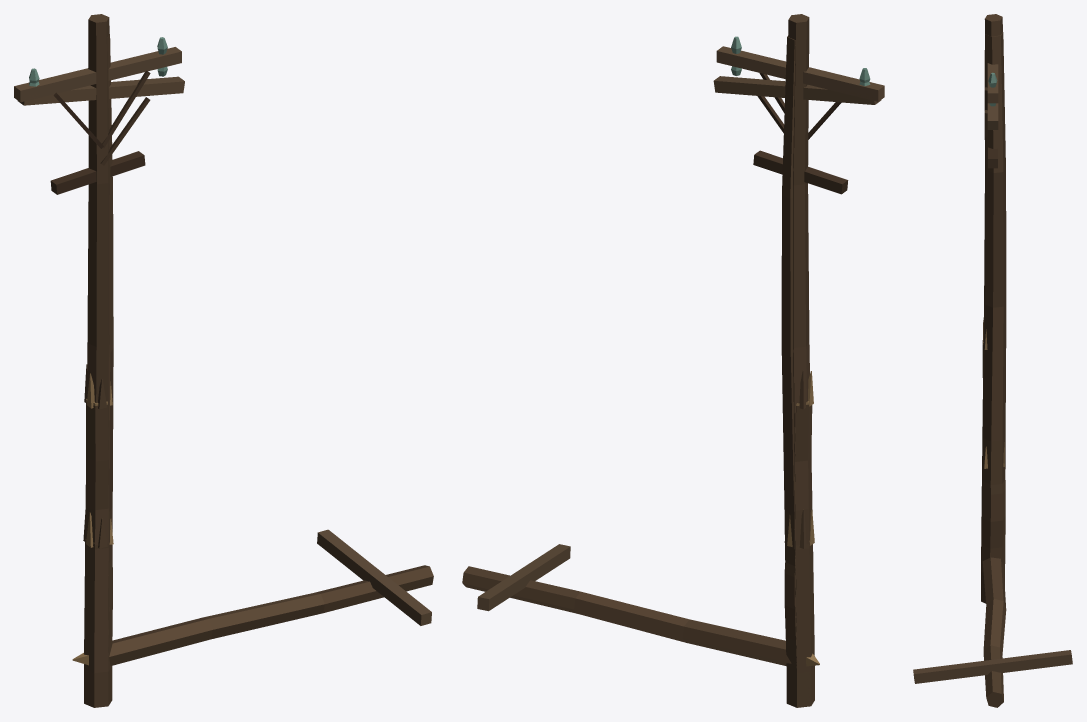
File: telephone_pole.glb
3 renders of one model, left to right at view 1: azimuth 30°, elevation 25°; view 2: azimuth 150°, elevation 25°; view 3: azimuth 270°, elevation 25°, orthographic. The views are drawn at different scales.
Parts seen in each view (by area): view 1: PoleA, Fallen, PoleB, SnapA, SnapB; view 2: PoleA, PoleB, Fallen, SnapB, SnapA; view 3: PoleB, Fallen, SnapB, PoleA, SnapA.
Part boxes in pixels (box(x1,y1,x2,y2)): PoleA: box(14, 14, 181, 707); Fallen: box(72, 529, 433, 666); PoleB: box(18, 34, 184, 661); SnapA: box(84, 364, 112, 700); SnapB: box(83, 510, 113, 671); PoleA: box(716, 14, 884, 707); PoleB: box(713, 35, 881, 665); Fallen: box(462, 544, 819, 666); SnapB: box(784, 509, 814, 703); SnapA: box(794, 370, 813, 662); PoleB: box(981, 32, 1006, 600); Fallen: box(913, 557, 1072, 707); SnapB: box(981, 442, 1005, 572); PoleA: box(981, 14, 1004, 603); SnapA: box(981, 320, 987, 601).
Bounding box in the file's own units: 3.73 × 5.9 × 1.47.
